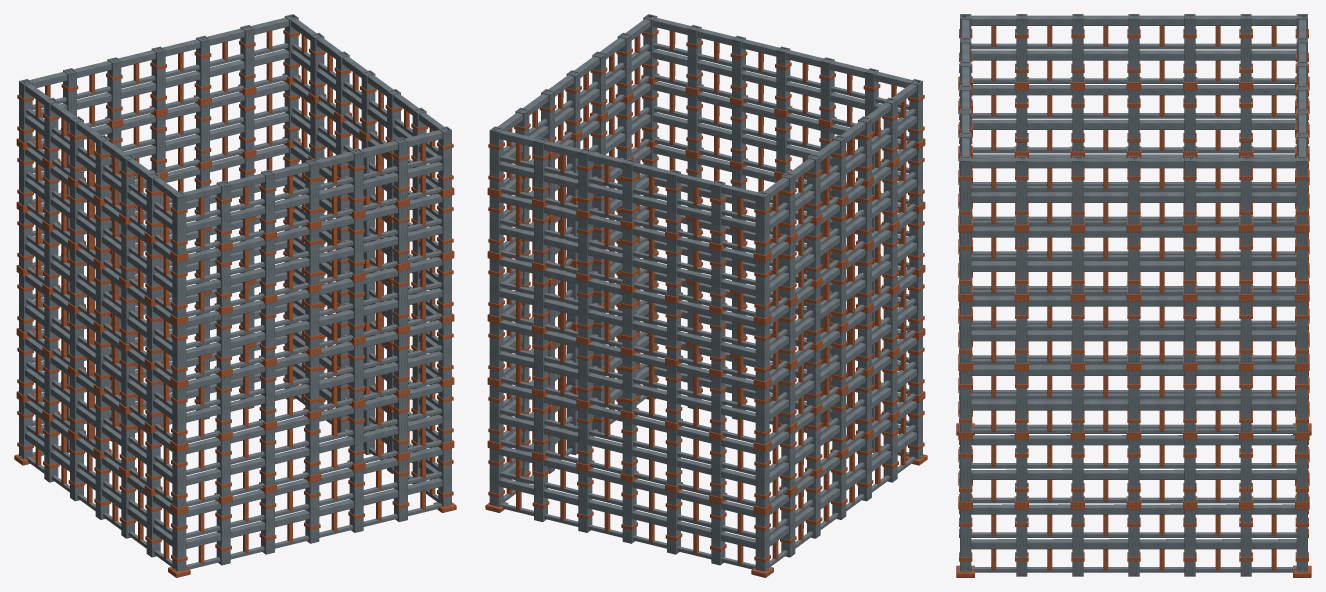
3 renders of one model, left to right at view 1: azimuth 30°, elevation 25°; view 2: azimuth 150°, elevation 25°; view 3: azimuth 270°, elevation 25°, orthographic. The views are drawn at different scales.
Visible parts, largest first — view 1: Tier 5 side 0 post 0, Tier 0 side 0 post 0, Tier 3 side 0 post 0, Tier 4 side 0 post 0, Tier 2 side 0 post 0, Tier 1 side 0 post 0, Tier 5 side 0 post 3, Tier 5 side 2 post 1, Tier 5 side 2 post 4, Tier 0 side 0 post 3, Tier 5 side 0 post 1, Tier 5 side 0 post 4 (+64 smaller); view 2: Tier 5 side 3 post 0, Tier 0 side 3 post 0, Tier 3 side 3 post 0, Tier 4 side 3 post 0, Tier 2 side 3 post 0, Tier 1 side 3 post 0, Tier 5 side 2 post 0, Tier 5 side 2 post 3, Tier 5 side 0 post 5, Tier 0 side 2 post 3, Tier 5 side 0 post 2, Tier 5 side 2 post 2 (+64 smaller); view 3: Tier 5 side 1 post 4, Tier 5 side 1 post 1, Tier 5 side 1 post 2, Tier 5 side 1 post 5, Tier 5 side 1 post 3, Tier 5 side 1 post 0, Tier 5 side 2 post 0, Tier 0 side 1 post 2, Tier 0 side 1 post 3, Tier 0 side 1 post 4, Tier 0 side 1 post 1, Tier 0 side 1 post 5 (+130 smaller).
Part boxes in pixels (x1=…): Tier 5 side 0 post 0: x1=172, y1=191, x2=186, y2=255; Tier 0 side 0 post 0: x1=172, y1=512, x2=186, y2=571; Tier 3 side 0 post 0: x1=172, y1=323, x2=186, y2=381; Tier 4 side 0 post 0: x1=172, y1=259, x2=186, y2=318; Tier 2 side 0 post 0: x1=172, y1=386, x2=186, y2=444; Tier 1 side 0 post 0: x1=172, y1=449, x2=186, y2=507; Tier 5 side 0 post 3: x1=305, y1=159, x2=319, y2=222; Tier 5 side 2 post 1: x1=240, y1=25, x2=254, y2=88; Tier 5 side 2 post 4: x1=107, y1=57, x2=121, y2=121; Tier 0 side 0 post 3: x1=305, y1=481, x2=319, y2=543; Tier 5 side 0 post 1: x1=216, y1=180, x2=230, y2=244; Tier 5 side 0 post 4: x1=349, y1=148, x2=363, y2=211; Tier 5 side 3 post 0: x1=755, y1=191, x2=769, y2=255; Tier 0 side 3 post 0: x1=755, y1=512, x2=769, y2=571; Tier 3 side 3 post 0: x1=755, y1=323, x2=769, y2=381; Tier 4 side 3 post 0: x1=755, y1=259, x2=769, y2=318; Tier 2 side 3 post 0: x1=755, y1=386, x2=769, y2=444; Tier 1 side 3 post 0: x1=755, y1=449, x2=769, y2=507; Tier 5 side 2 post 0: x1=489, y1=126, x2=503, y2=190; Tier 5 side 2 post 3: x1=622, y1=159, x2=636, y2=222; Tier 5 side 0 post 5: x1=687, y1=25, x2=701, y2=88; Tier 0 side 2 post 3: x1=622, y1=481, x2=636, y2=543; Tier 5 side 0 post 2: x1=820, y1=57, x2=834, y2=121; Tier 5 side 2 post 2: x1=578, y1=148, x2=592, y2=211; Tier 5 side 1 post 4: x1=1184, y1=156, x2=1195, y2=224; Tier 5 side 1 post 1: x1=1016, y1=156, x2=1027, y2=224; Tier 5 side 1 post 2: x1=1072, y1=156, x2=1083, y2=224; Tier 5 side 1 post 5: x1=1240, y1=156, x2=1251, y2=224; Tier 5 side 1 post 3: x1=1128, y1=156, x2=1139, y2=224; Tier 5 side 1 post 0: x1=960, y1=156, x2=971, y2=224; Tier 5 side 2 post 0: x1=1296, y1=156, x2=1307, y2=224; Tier 0 side 1 post 2: x1=1072, y1=509, x2=1083, y2=576; Tier 0 side 1 post 3: x1=1128, y1=509, x2=1139, y2=576; Tier 0 side 1 post 4: x1=1184, y1=509, x2=1195, y2=576; Tier 0 side 1 post 1: x1=1016, y1=509, x2=1027, y2=576; Tier 0 side 1 post 5: x1=1240, y1=509, x2=1251, y2=576.
Size of the model in its own units: 2.85 by 3.68 by 2.85.
2 materials, 2 textured.
